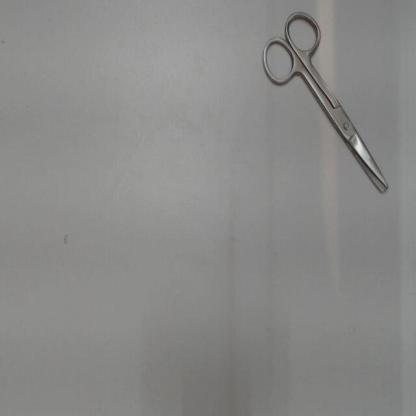Dressing Scissors: (254, 1, 400, 210)
